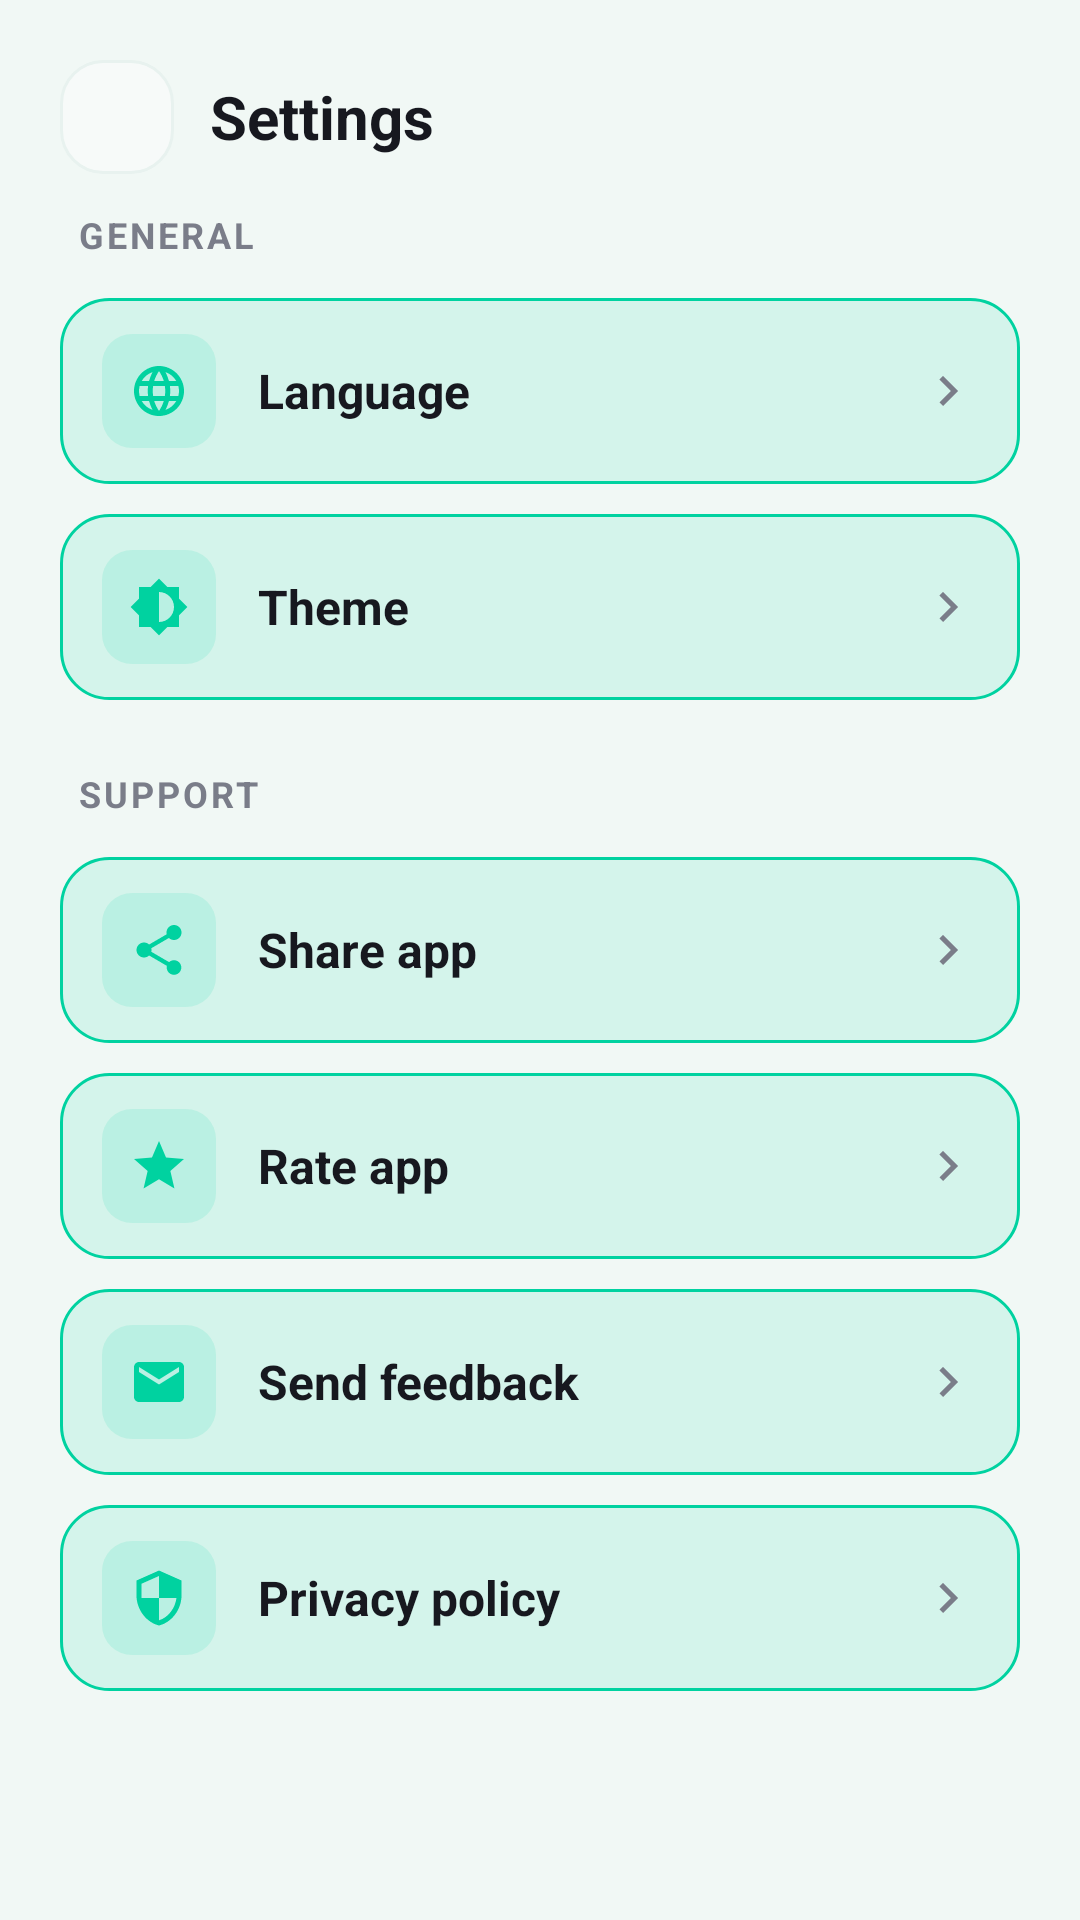

Point at icon controls on the screen. Image size 1080x1920, points as (x,y).
mail: (159,1382)
shield: (159,1598)
star: (159,1165)
